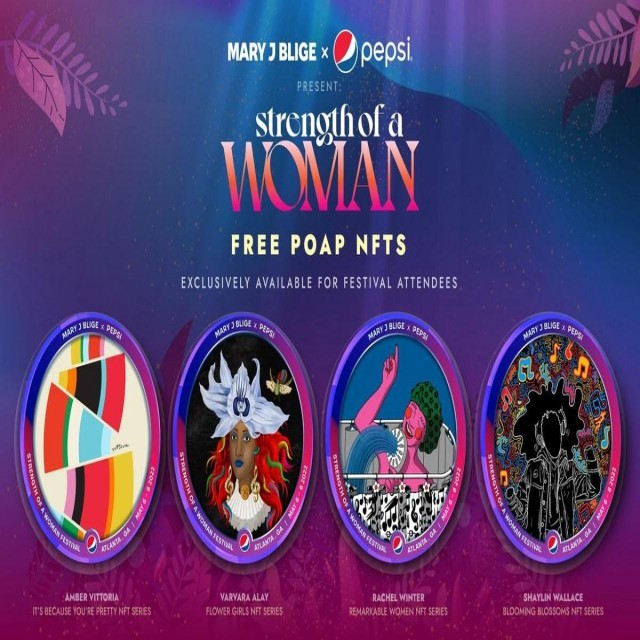pepsi: (332, 29, 363, 77)
